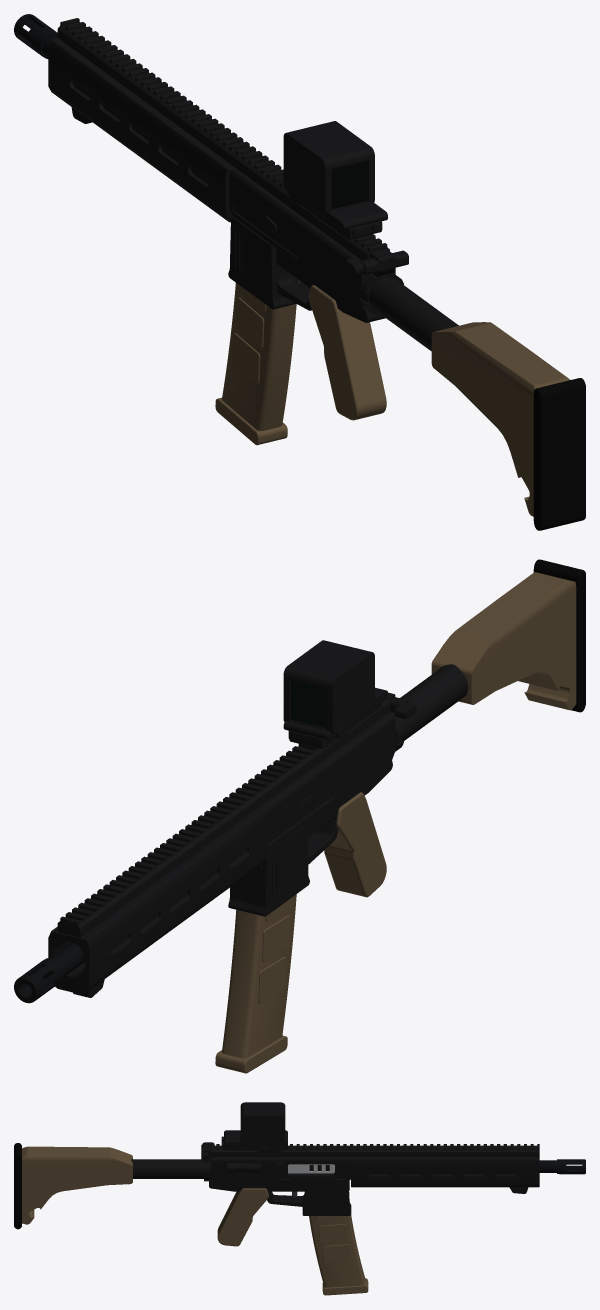
Rendered from marauder.glb.
The picture shows the model from 3 angles, top to bottom: view 1: azimuth 30°, elevation 25°; view 2: azimuth 150°, elevation 25°; view 3: azimuth 270°, elevation 25°; orthographic projection. The views are drawn at different scales.
Parts seen in each view (by area): view 1: handguard, stock, upper, mag, buttpad, optic, grip, lower, buffer, holo_window, charging_handle_mesh, barrel; view 2: handguard, stock, mag, upper, optic, lower, grip, buffer, barrel, buttpad, holo_front_glass; view 3: handguard, stock, upper, mag, optic, lower, grip, buffer, barrel, buttpad, bcg.
Part boxes in pixels (x1,y1,x2,y2): handguard: [48, 18, 253, 222]; stock: [431, 322, 569, 516]; upper: [229, 147, 395, 307]; mag: [215, 283, 296, 445]; buttpad: [533, 378, 585, 530]; optic: [283, 121, 387, 239]; grip: [308, 285, 386, 420]; lower: [228, 216, 385, 322]; buffer: [359, 272, 458, 351]; holo_window: [331, 161, 368, 209]; charging_handle_mesh: [344, 249, 408, 276]; barrel: [14, 14, 57, 58]; handguard: [48, 789, 266, 997]; stock: [431, 572, 576, 710]; mag: [215, 894, 296, 1073]; upper: [237, 698, 395, 851]; optic: [283, 640, 387, 749]; lower: [228, 761, 392, 916]; grip: [324, 792, 386, 897]; buffer: [393, 664, 468, 751]; barrel: [14, 942, 85, 1003]; buttpad: [533, 559, 585, 712]; holo_front_glass: [290, 680, 326, 728]; handguard: [351, 1144, 539, 1193]; stock: [22, 1146, 132, 1224]; upper: [210, 1144, 351, 1189]; mag: [309, 1215, 368, 1295]; optic: [221, 1102, 287, 1154]; lower: [209, 1178, 351, 1215]; grip: [217, 1188, 268, 1246]; buffer: [131, 1159, 210, 1181]; barrel: [539, 1159, 585, 1174]; buttpad: [14, 1143, 21, 1229]; bcg: [288, 1164, 334, 1173].
Size of the model in its own units: 0.054 by 0.3019 by 0.8555.
